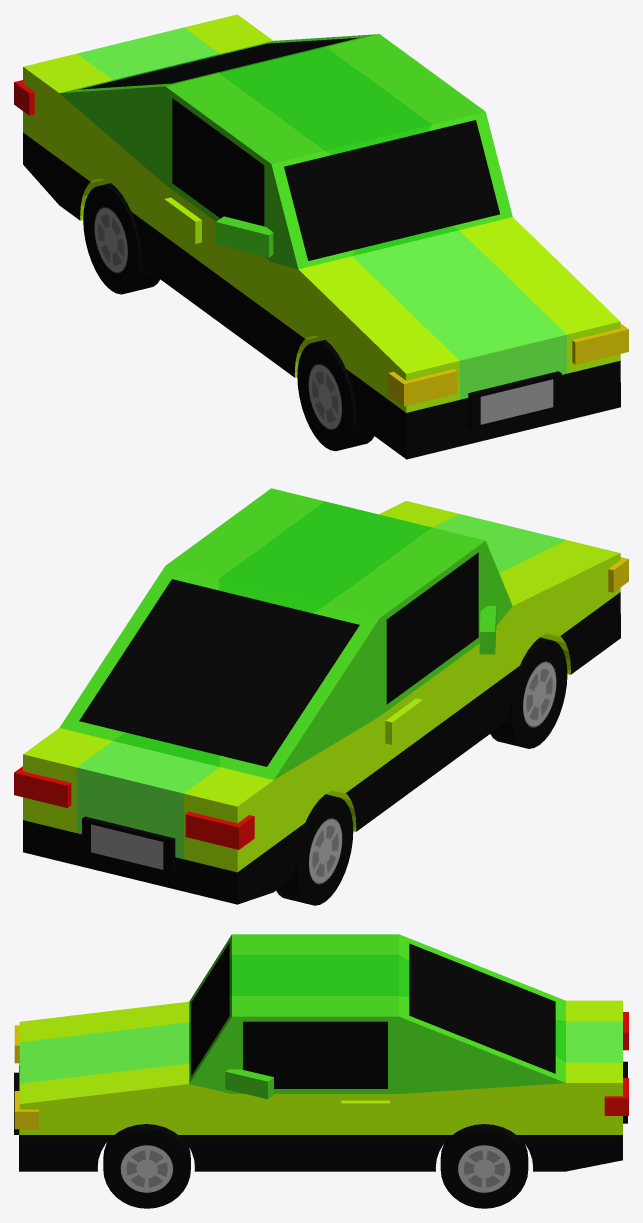
The model's file is Mobil_3_Hijau_D.fbx.
3 views of the same model, one above another, from view 1: azimuth 30°, elevation 25°; view 2: azimuth 150°, elevation 25°; view 3: azimuth 270°, elevation 25° (orthographic). The views are drawn at different scales.
Visible parts, largest first — view 1: Mobil2.002; view 2: Mobil2.002; view 3: Mobil2.002.
Part boxes in pixels (<box>): Mobil2.002: <box>14,14,628,459</box>; Mobil2.002: <box>14,488,628,905</box>; Mobil2.002: <box>14,934,628,1208</box>.
Bounding box in the file's own units: 521 × 435 × 1261.
5 materials, 3 textured.
